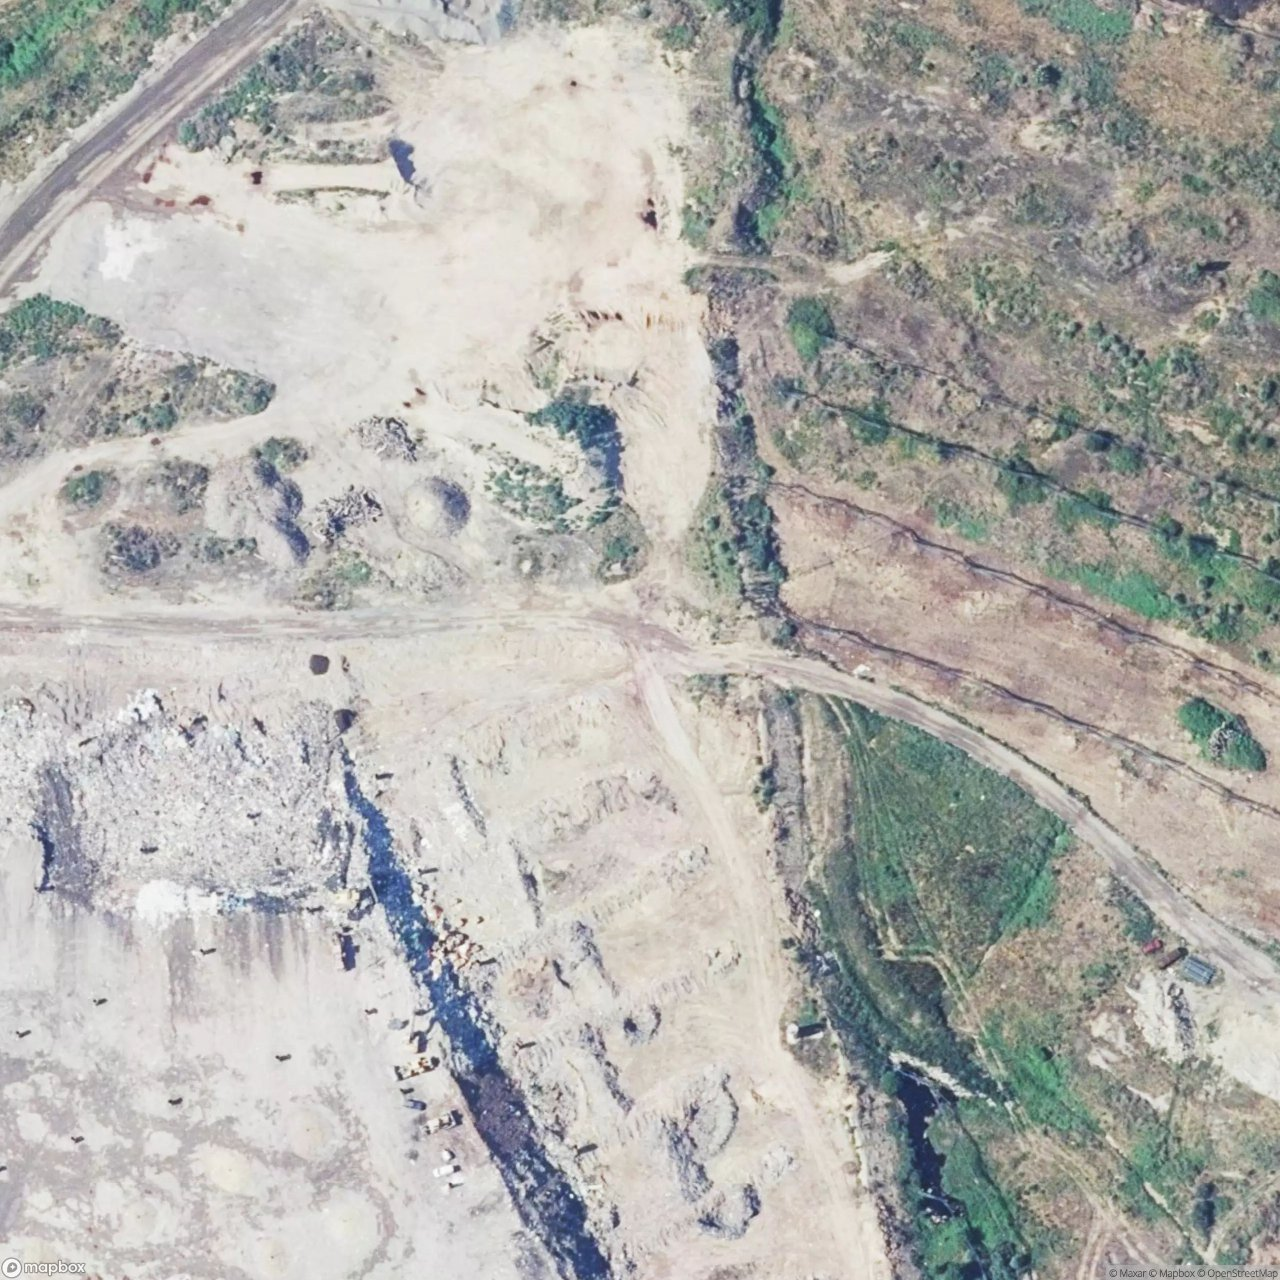dump_site: (2, 672, 373, 954)
